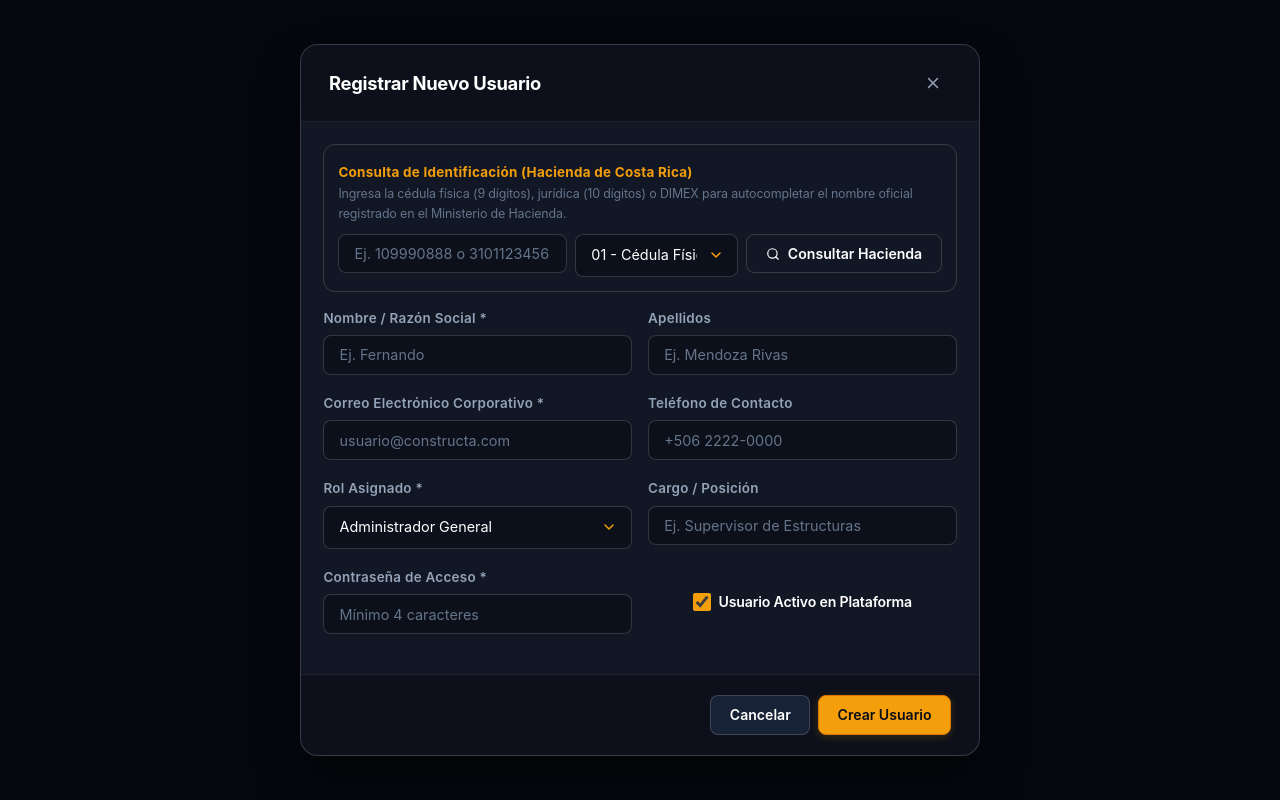
Test: Componente UserModal › 2. Ejecuta consulta de Hacienda, muestra estado loading y autocompleta nombre y tipo
Type "109990888" into the field with placeholder "Ej. 109990888 o 3101123456" at (453, 254), box [338, 234, 567, 273]
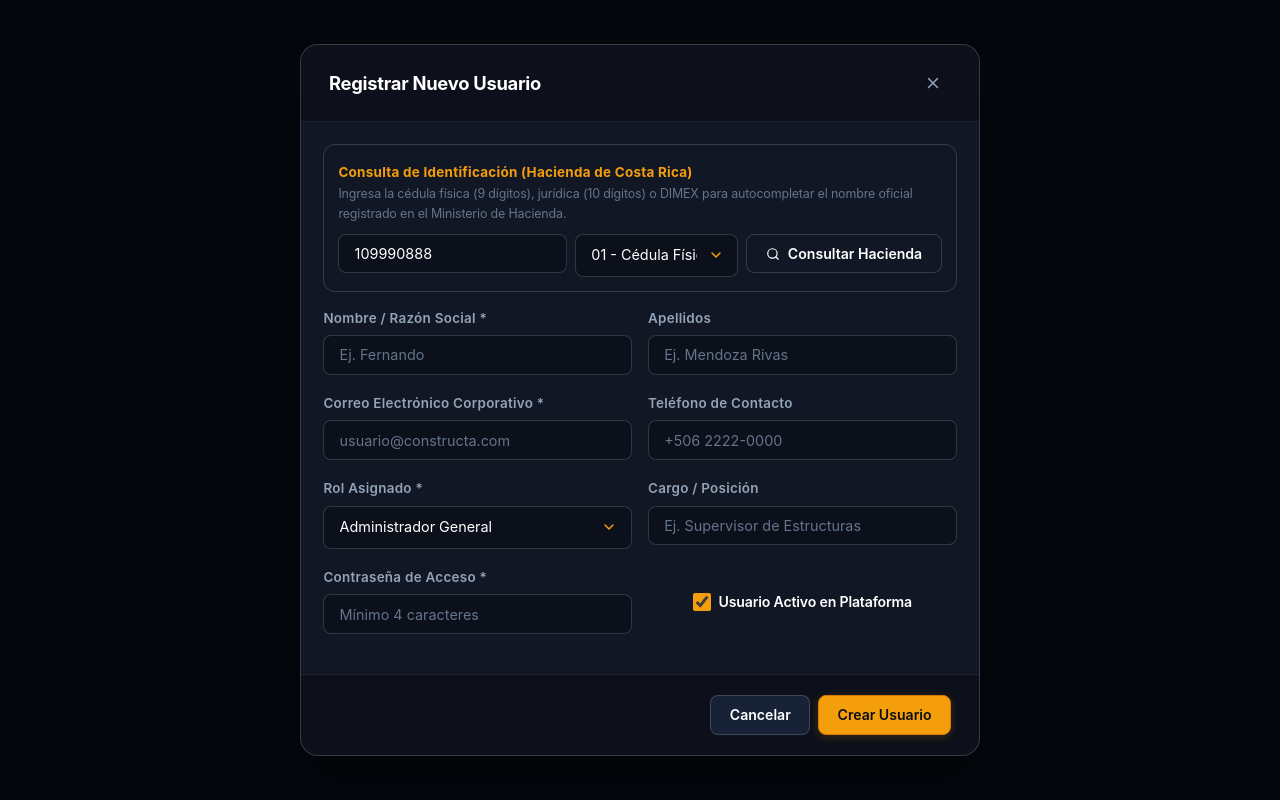
Click the button "Consultar Hacienda" at (844, 254), box [746, 234, 942, 273]
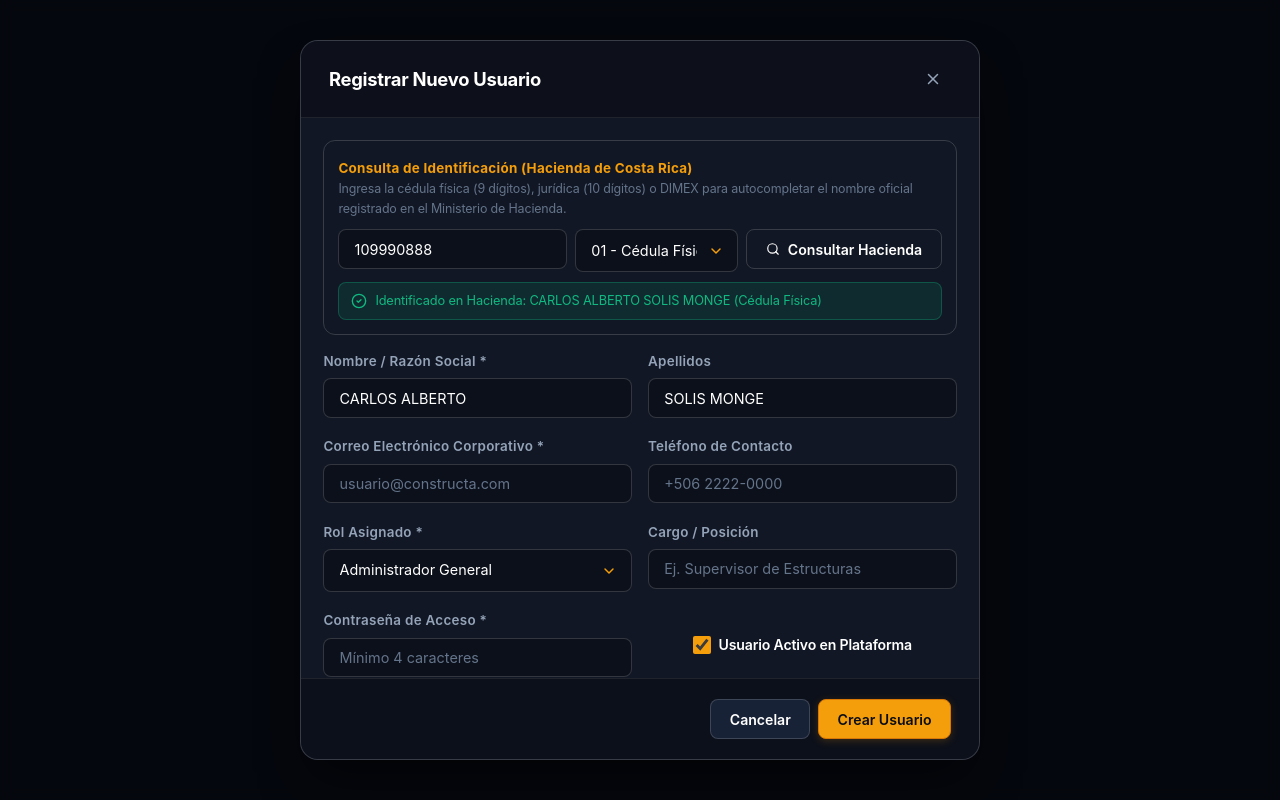
Expected: the field labelled "Nombre / Razón Social *" holds "CARLOS ALBERTO", [323, 378, 632, 418]
Expected: the text "Identificado en Hacienda" is shown, [375, 293, 822, 308]
